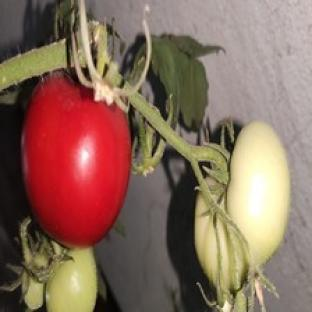Tomato: (23, 73, 130, 246), (228, 122, 289, 266), (194, 193, 247, 293), (45, 248, 97, 311)
